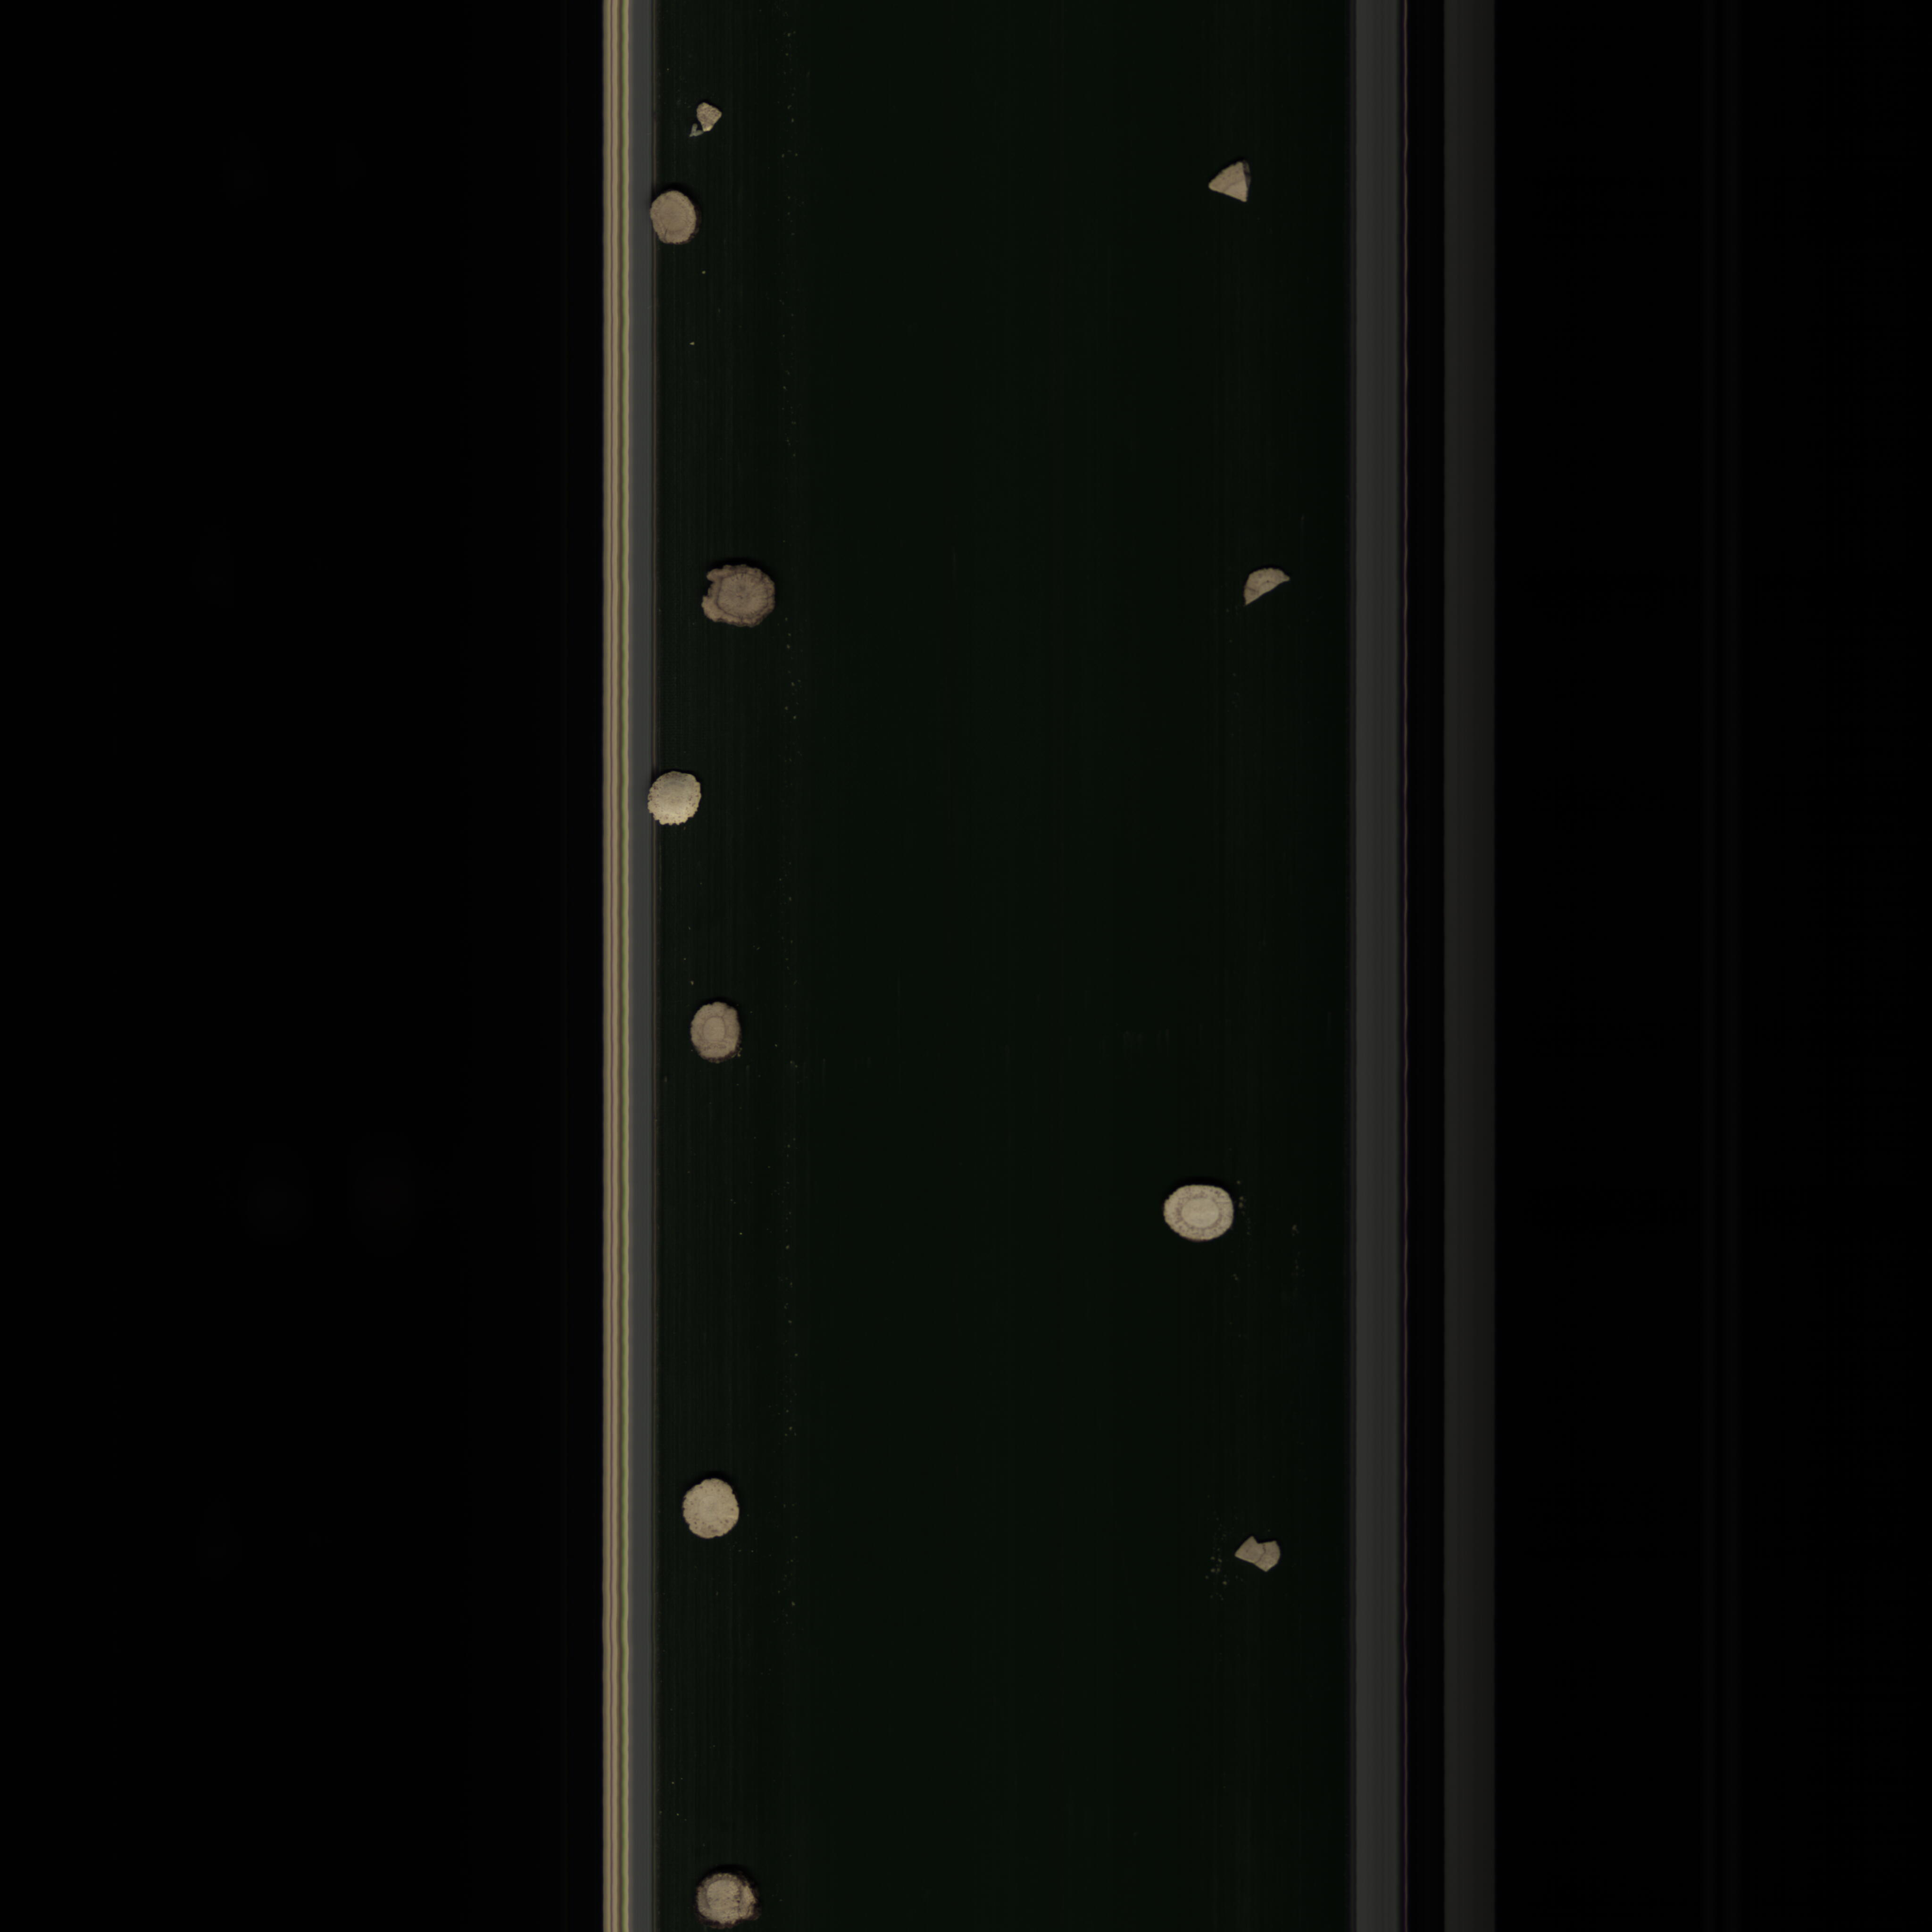bark: (678, 97, 734, 149)
debris: (1226, 1527, 1283, 1582), (1226, 566, 1293, 612), (1207, 161, 1261, 203)
distortion: (678, 1856, 764, 1928)
moldy: (695, 561, 789, 642)
